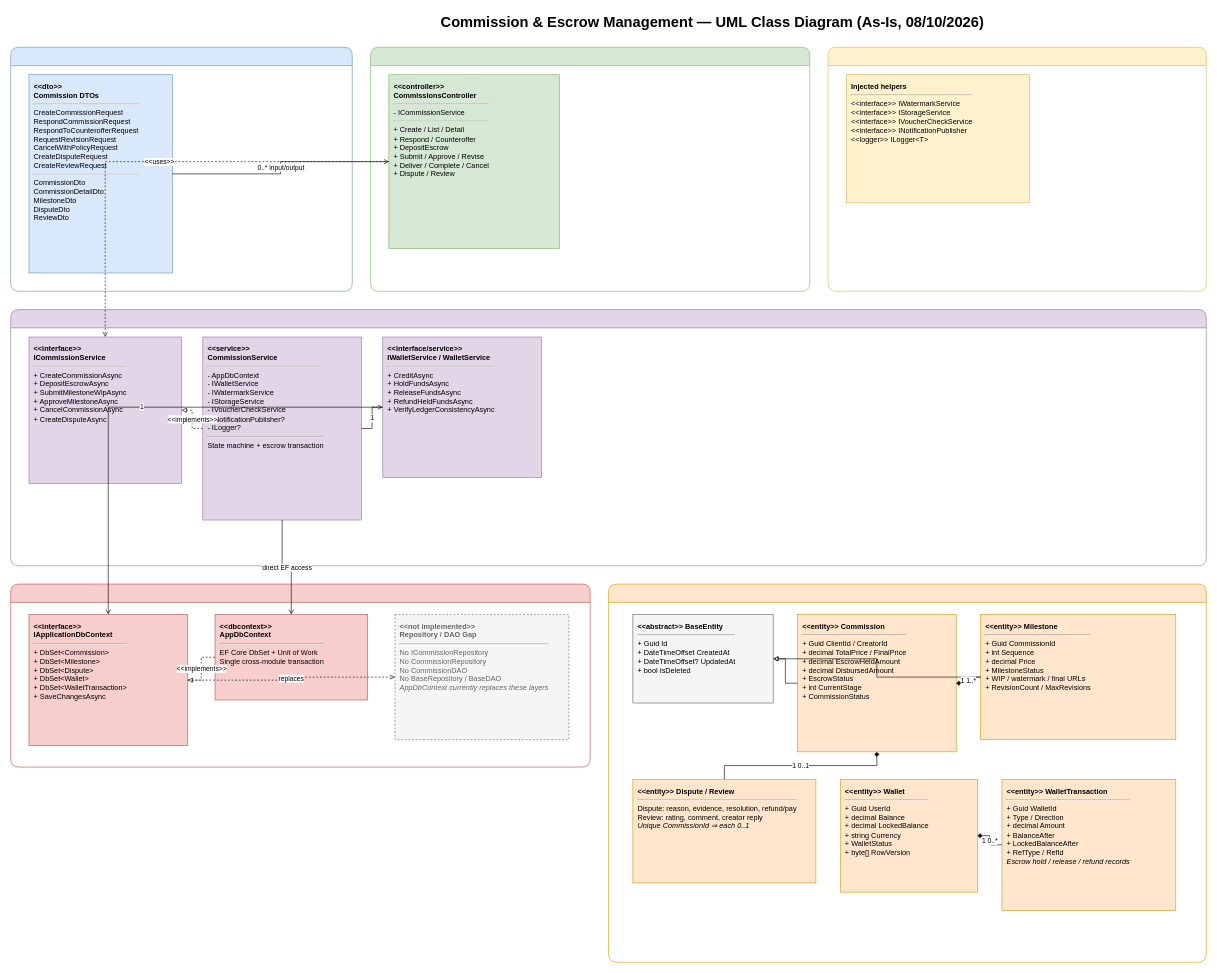
Some shapes in this 1217 by 973 pixel diagram are drawn without their labels. Each missing label, with the box of its shape:
Application / Service Layer: (10, 309, 1206, 566)
Controller Layer: (370, 47, 810, 291)
Cross-cutting / External: (827, 47, 1206, 291)
Domain Entity Layer: (608, 583, 1206, 962)
DTO / API Contracts: (10, 47, 352, 291)
Persistence (actual replacement for Repository + DAO): (10, 583, 590, 767)
